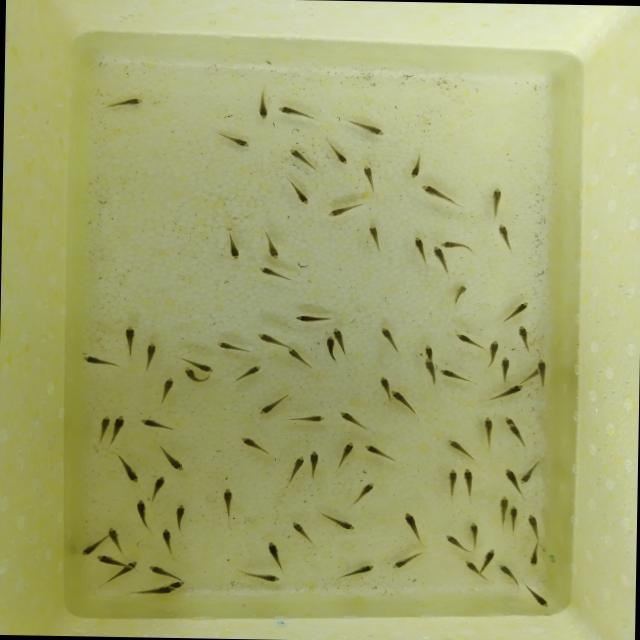fingerling: (419, 182, 458, 208), (285, 146, 318, 172), (392, 389, 421, 418), (264, 539, 288, 574), (486, 382, 524, 404), (390, 550, 426, 572), (284, 178, 312, 206), (256, 392, 286, 418), (258, 228, 282, 260), (256, 264, 294, 284), (238, 435, 271, 458), (319, 511, 356, 531), (78, 352, 119, 370), (337, 410, 369, 433), (524, 582, 552, 608), (158, 447, 186, 473), (114, 454, 139, 483), (326, 200, 364, 219), (346, 118, 386, 136), (78, 533, 108, 557), (359, 164, 382, 194), (338, 562, 376, 580), (522, 511, 544, 542), (494, 222, 514, 256), (217, 130, 251, 150), (131, 584, 176, 599), (502, 300, 530, 324), (378, 326, 402, 354), (283, 454, 306, 483), (106, 527, 129, 556), (363, 444, 398, 463), (504, 424, 530, 449), (350, 479, 374, 506), (254, 331, 292, 348), (232, 362, 261, 384), (132, 498, 150, 533), (236, 570, 281, 584), (446, 438, 472, 462), (326, 141, 352, 165), (102, 96, 146, 110), (438, 366, 472, 384), (139, 415, 175, 432), (410, 232, 428, 266), (452, 330, 482, 350), (290, 520, 317, 542), (141, 339, 159, 372), (335, 442, 356, 469), (120, 324, 136, 359), (514, 324, 534, 352), (292, 311, 335, 324), (401, 511, 421, 538), (481, 414, 495, 452), (147, 564, 180, 580), (460, 467, 476, 500), (109, 414, 125, 446), (443, 468, 460, 498), (466, 519, 483, 548), (157, 375, 175, 402), (406, 153, 424, 180), (498, 563, 522, 583), (218, 487, 234, 517), (422, 358, 438, 388), (488, 186, 504, 216), (308, 448, 322, 482), (224, 234, 242, 260), (484, 338, 502, 364), (172, 503, 188, 532), (522, 461, 542, 484), (285, 346, 308, 366), (150, 474, 168, 499), (276, 104, 308, 118), (92, 553, 121, 568), (96, 413, 110, 444), (442, 534, 466, 552), (504, 468, 522, 492), (376, 374, 394, 398), (366, 222, 381, 250), (495, 495, 509, 525), (450, 283, 468, 306), (481, 546, 498, 570), (506, 504, 520, 533), (498, 356, 512, 384), (257, 91, 270, 120), (293, 412, 327, 423), (323, 336, 336, 364), (216, 340, 246, 352), (159, 527, 173, 552), (536, 357, 548, 386), (441, 240, 475, 250), (420, 340, 438, 358), (431, 244, 443, 270), (528, 544, 540, 568), (462, 558, 478, 576), (182, 366, 196, 385), (122, 560, 144, 572), (197, 361, 216, 374), (332, 328, 346, 338), (502, 414, 516, 424)
